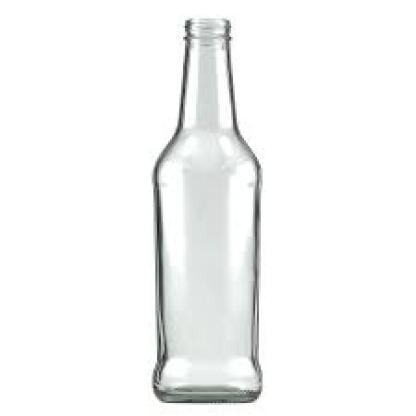trash: (153, 18, 261, 401)
